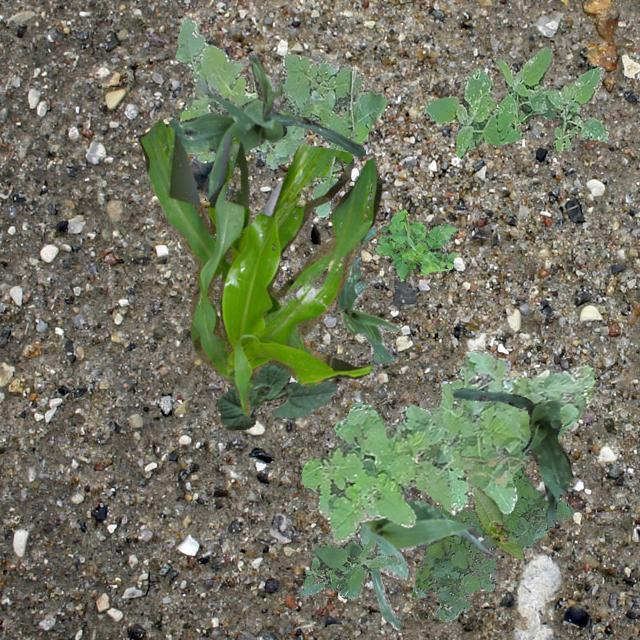crop: (138, 119, 380, 414), (168, 51, 364, 200), (351, 486, 494, 628), (452, 386, 572, 520), (334, 226, 400, 364), (216, 362, 336, 428), (472, 488, 522, 558)
weed: (300, 350, 594, 544), (175, 18, 386, 218), (410, 462, 572, 620), (424, 46, 608, 158), (300, 538, 400, 600), (372, 208, 457, 280)
